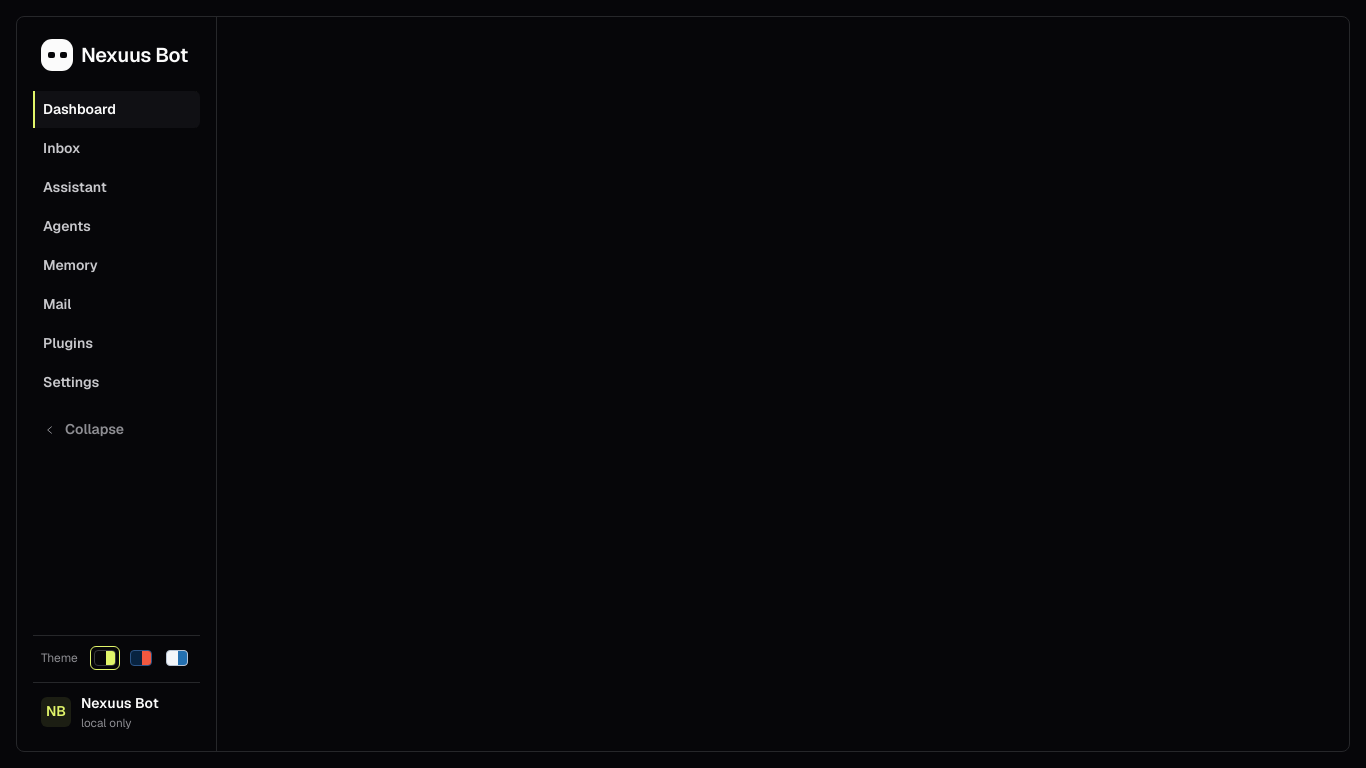
Test: rail brand placement and collapsed layout › keeps the rail face visible when collapsed and adjusts .rail-collapsed .brand padding
Click the button with aria-label "Collapse navigation": (116, 430) [33,411,200,448]
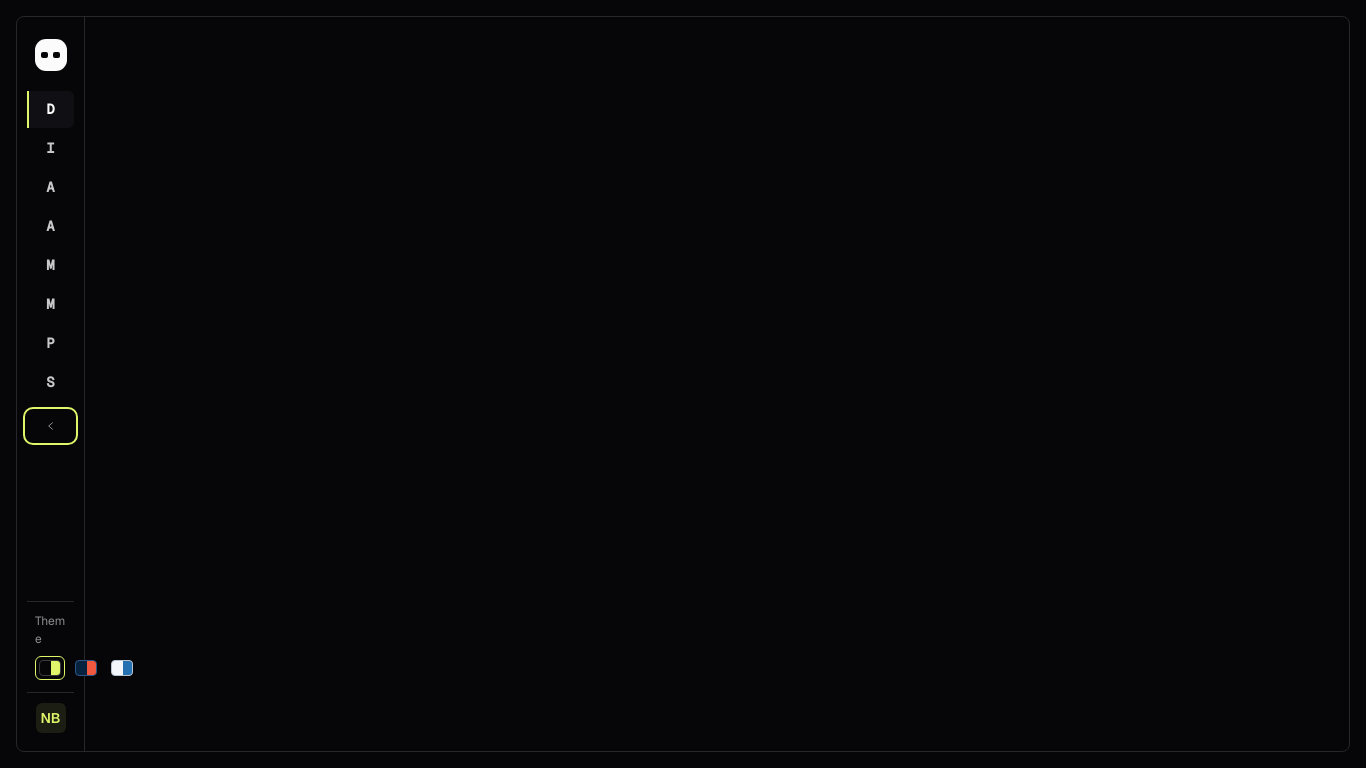
expect the element with class "face-box" is shown: met, box [34,39,66,71]
expect the element showing "D I A A M M P S Theme NB" has class "rail-collapsed": met
